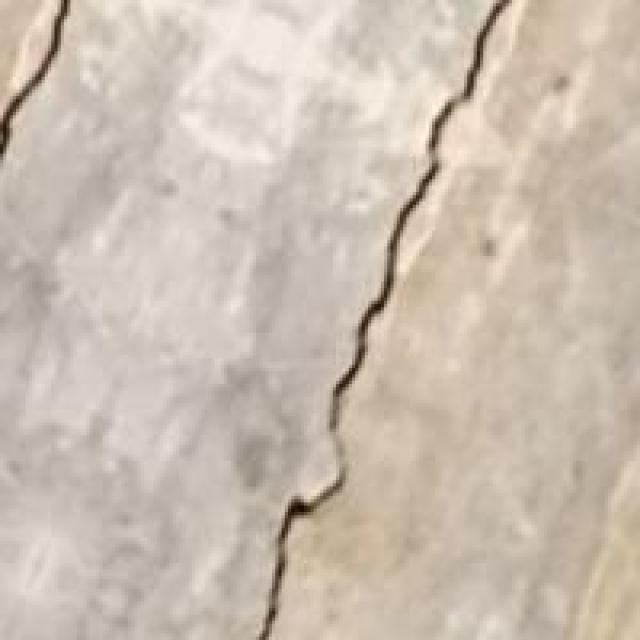Crack: (0, 0, 512, 637)
